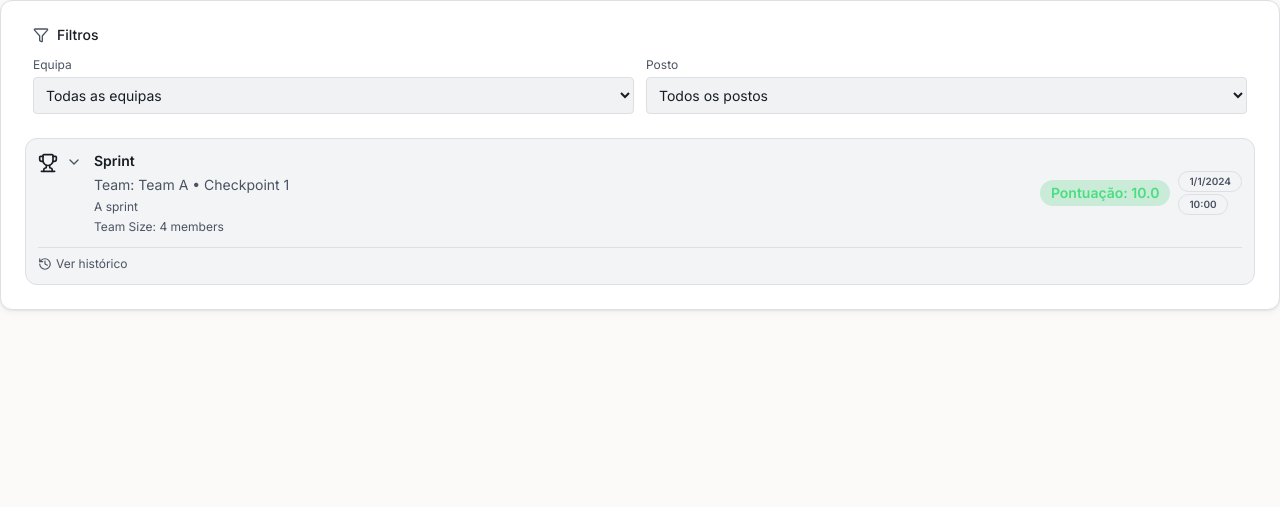
AllEvaluations › renders TeamVsActivity draw badge with fallback badge class
What coordinates should you click on to do the following:
click the button "Sprint"
I would click on:
 (114, 160)
Its box is [38,151,1028,235].
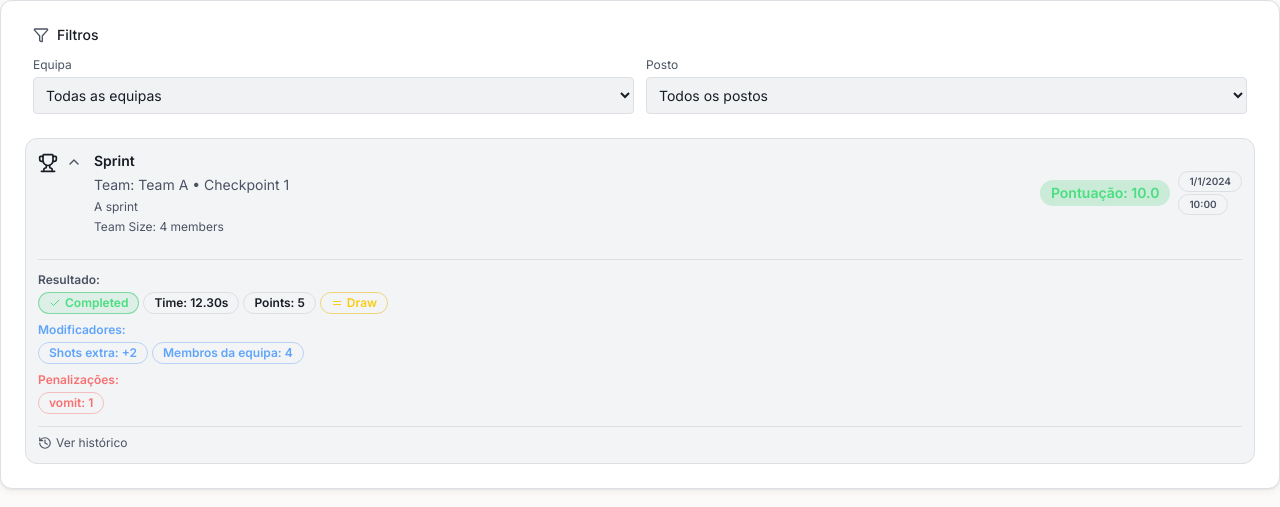
Check: the text "Draw" is shown, box [320,292,388,314]
